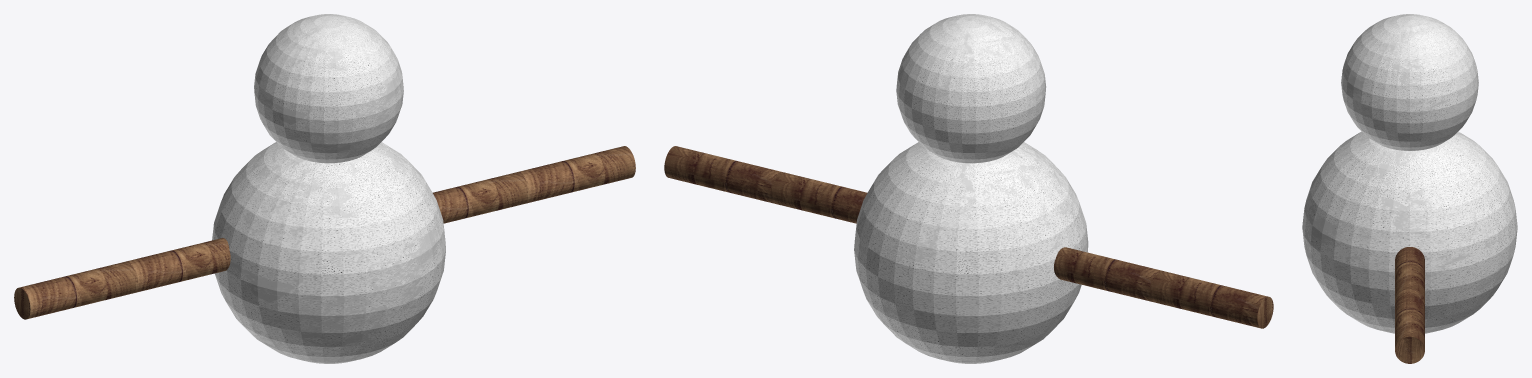
Rendered from snowmanBigArms.obj.
The picture shows the model from 3 angles, left to right: view 1: azimuth 30°, elevation 25°; view 2: azimuth 150°, elevation 25°; view 3: azimuth 270°, elevation 25°; orthographic projection. The views are drawn at different scales.
Parts seen in each view (by area): view 1: Sphere, Sphere.002_Sphere.003, Cylinder.002, Cylinder.001, Cylinder.003, Cylinder; view 2: Sphere, Sphere.002_Sphere.003, Cylinder.002, Cylinder.001, Cylinder.003, Cylinder; view 3: Sphere, Sphere.002_Sphere.003, Cylinder.001, Cylinder.
Boxes of the visible parts, x1,y1,x2,y2 form: Sphere: [212, 142, 445, 363]; Sphere.002_Sphere.003: [254, 14, 403, 163]; Cylinder.002: [14, 261, 138, 319]; Cylinder.001: [517, 146, 635, 203]; Cylinder.003: [127, 238, 230, 292]; Cylinder: [433, 172, 529, 223]; Sphere: [854, 142, 1088, 363]; Sphere.002_Sphere.003: [896, 14, 1046, 163]; Cylinder.002: [1149, 270, 1273, 328]; Cylinder.001: [664, 146, 782, 203]; Cylinder.003: [1054, 247, 1159, 302]; Cylinder: [770, 172, 867, 223]; Sphere: [1302, 131, 1517, 333]; Sphere.002_Sphere.003: [1341, 14, 1478, 150]; Cylinder.001: [1395, 288, 1424, 363]; Cylinder: [1395, 247, 1424, 300].
Size of the model in its own units: 5.89 by 3.12 by 2.
Materials: 7 (6 with a texture image).
